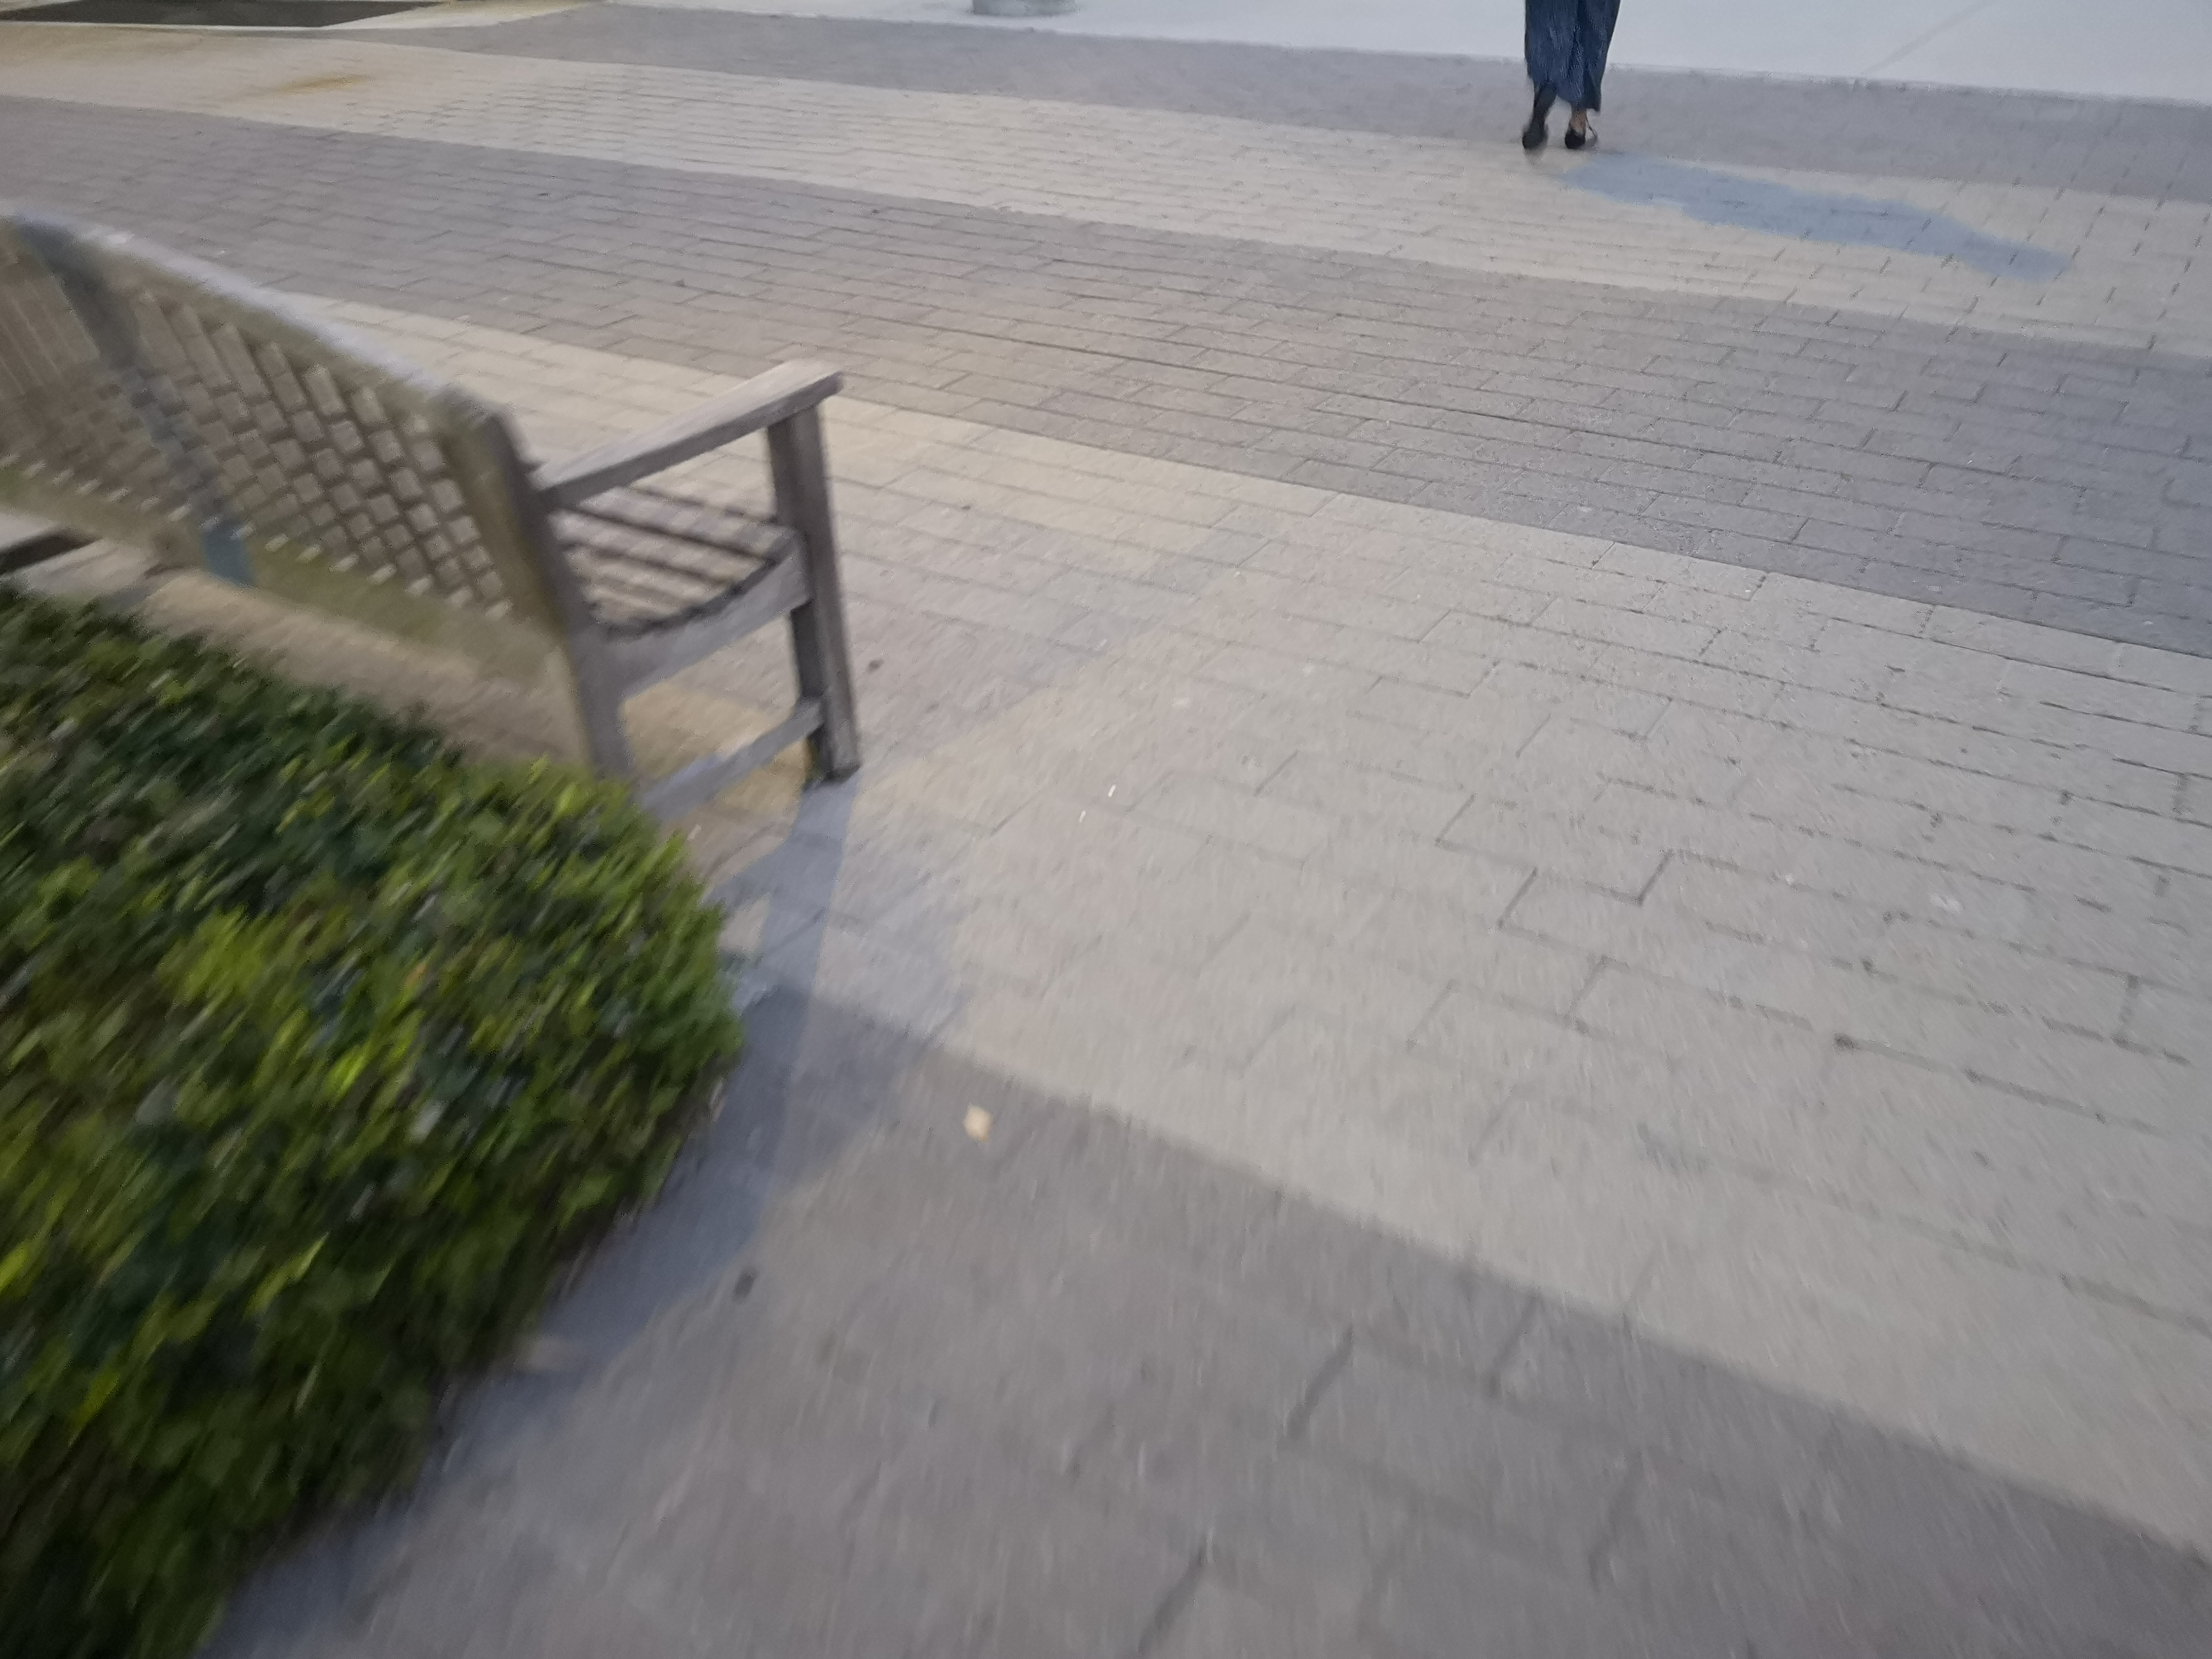Obstacle: (16, 570, 596, 1600), (16, 188, 927, 843), (1470, 16, 1669, 162)
